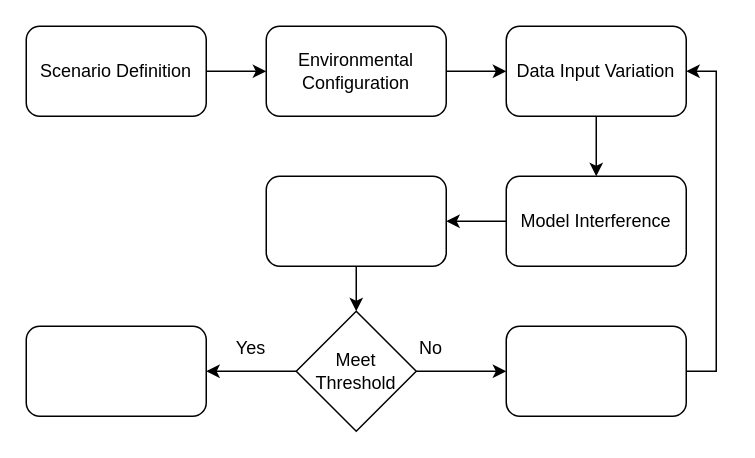
Image size: 755x458. Some labels were removed from this diagram. Each missing label, with the centre of its shape:
Confirm System Robustness: the point at 115,370
Performance Evaluation: the point at 355,220
Refinement Process: the point at 595,370
